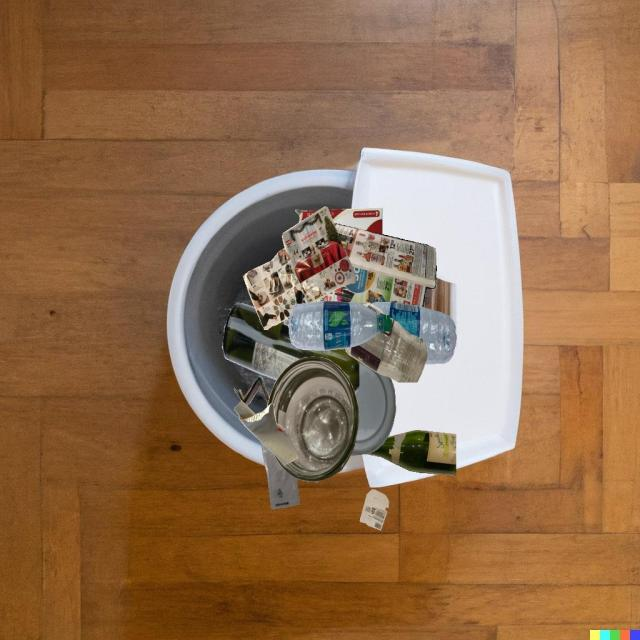cardboard: (234, 400, 299, 465), (329, 207, 382, 234), (234, 376, 270, 405), (286, 317, 290, 320)
glass: (222, 303, 359, 394), (267, 356, 359, 482), (345, 321, 427, 383), (366, 430, 456, 476)
paper: (243, 206, 355, 330), (316, 223, 436, 307), (360, 490, 389, 531)
plastic: (371, 302, 457, 364), (288, 301, 392, 350), (351, 361, 396, 455), (261, 442, 300, 509)
